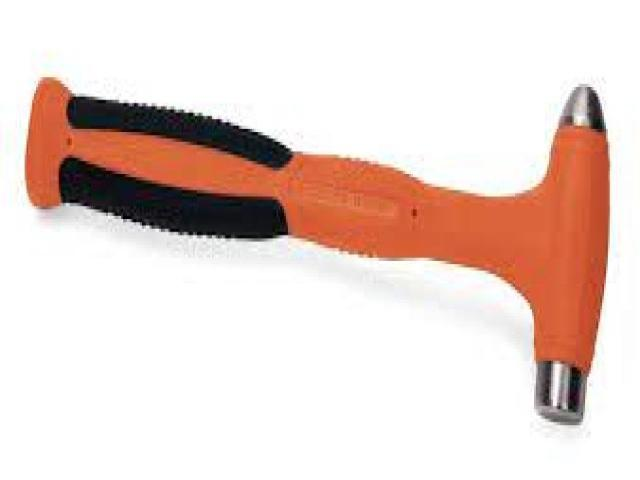hammer: (24, 74, 609, 424)
